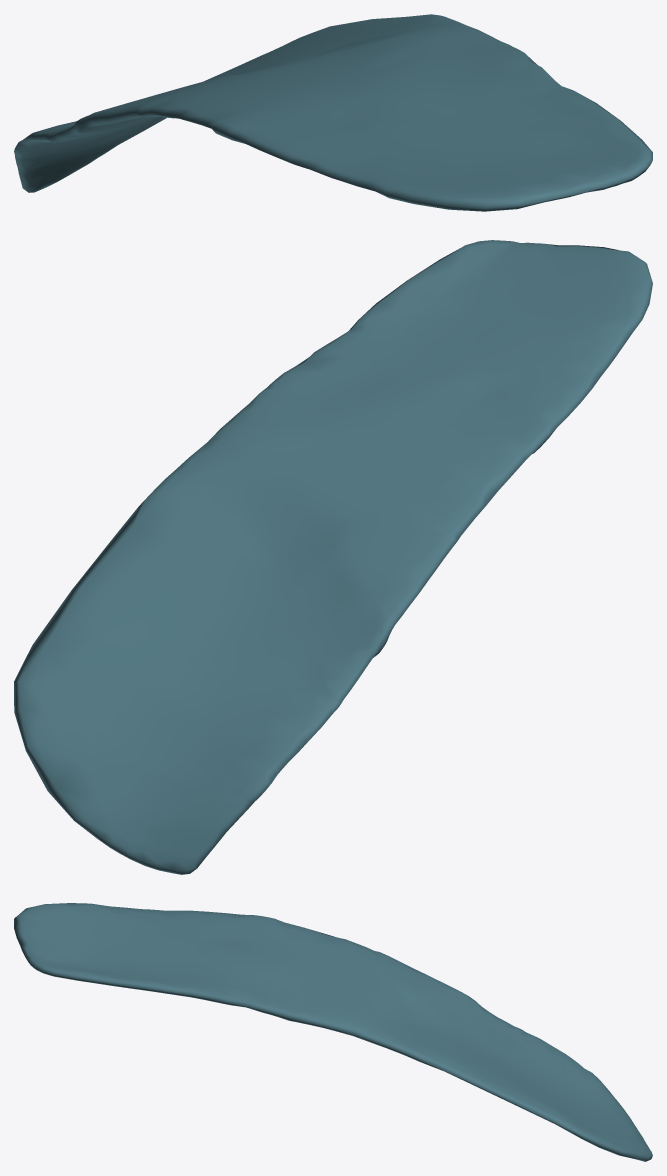
File: Ascending_part_of_trapezius_muscle-Acromial_insertion.r_Generat.glb
3 renders of one model, top to bottom at view 1: azimuth 30°, elevation 25°; view 2: azimuth 150°, elevation 25°; view 3: azimuth 270°, elevation 25°, orthographic. The views are drawn at different scales.
Parts seen in each view (by area): view 1: Ascending_part_of_trapezius_muscle-Acromial_insertion.r_Gene; view 2: Ascending_part_of_trapezius_muscle-Acromial_insertion.r_Gene; view 3: Ascending_part_of_trapezius_muscle-Acromial_insertion.r_Gene.
Boxes of the visible parts, x1=… form: Ascending_part_of_trapezius_muscle-Acromial_insertion.r_Gene: x1=14, y1=14, x2=652, y2=211; Ascending_part_of_trapezius_muscle-Acromial_insertion.r_Gene: x1=14, y1=240, x2=652, y2=874; Ascending_part_of_trapezius_muscle-Acromial_insertion.r_Gene: x1=14, y1=903, x2=652, y2=1161.
Bounding box in the file's own units: 0.0144 × 0.0139 × 0.0355.
